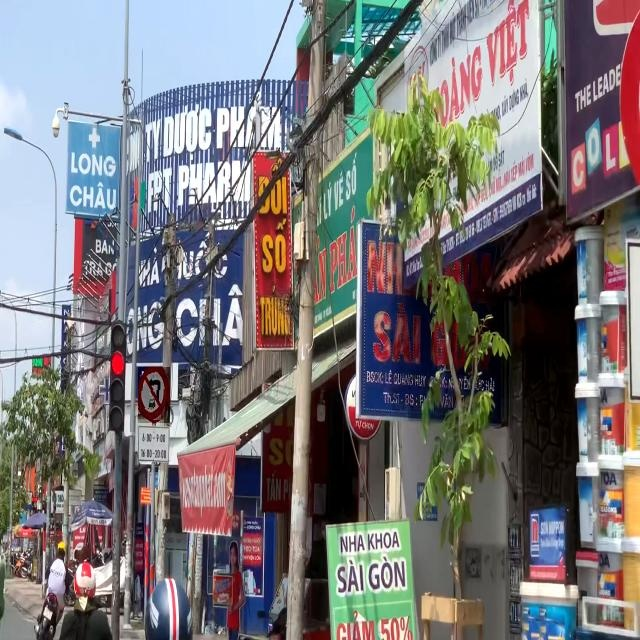bien_cam: (138, 368, 170, 423)
